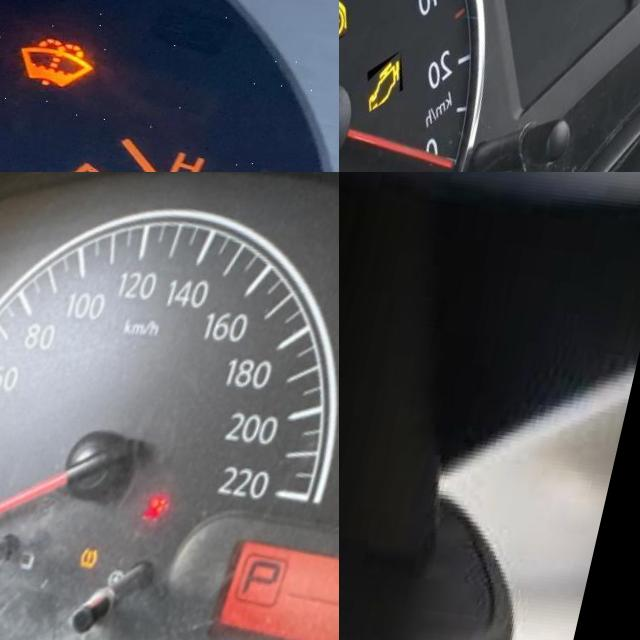Washer Fluid: (26, 26, 109, 81)
